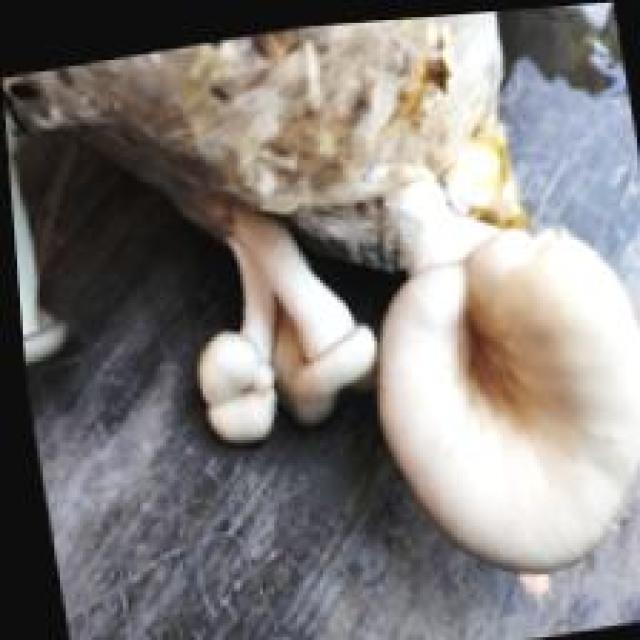death-cap: (377, 220, 640, 571)
